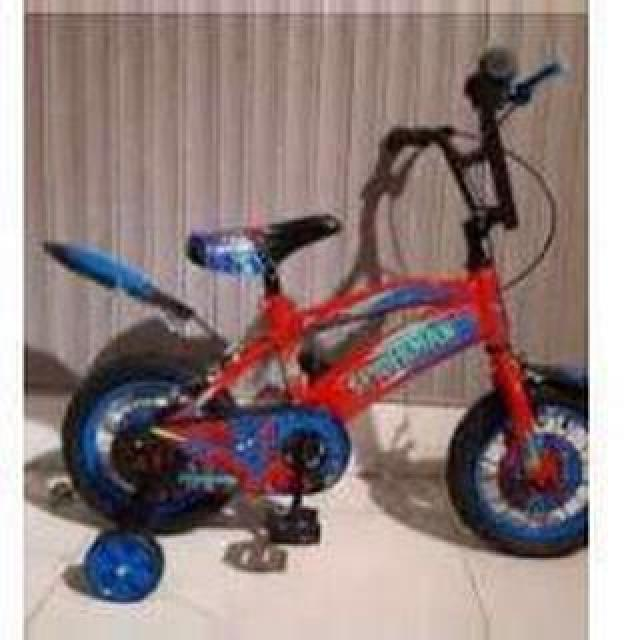Person: (46, 46, 590, 548)
